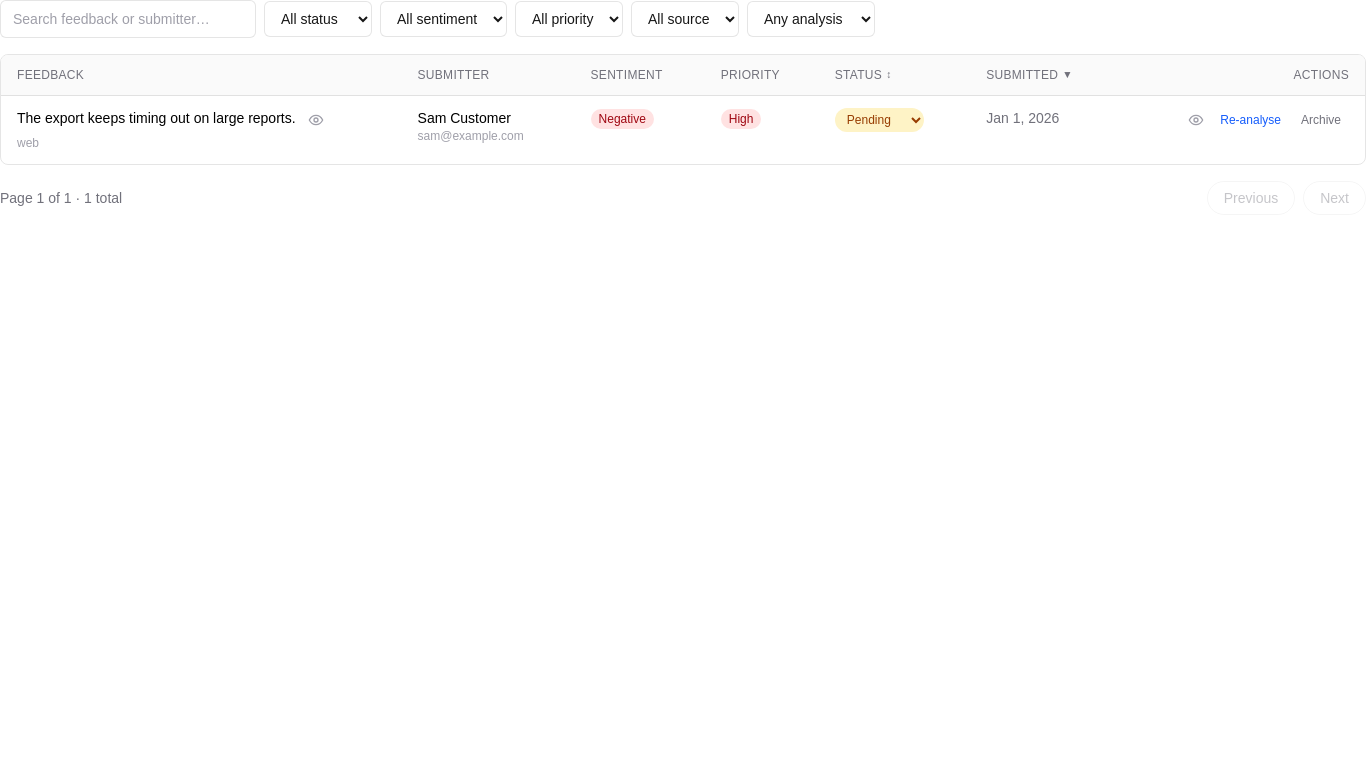
Test: FeedbackTable › opens the AI analysis modal with summary, themes, and actions
Check: the text "The export keeps timing out on large reports." is shown, box [17,108,296,128]
Click the button named "View AI analysis".
click(1196, 120)  # box [1184,108,1208,132]
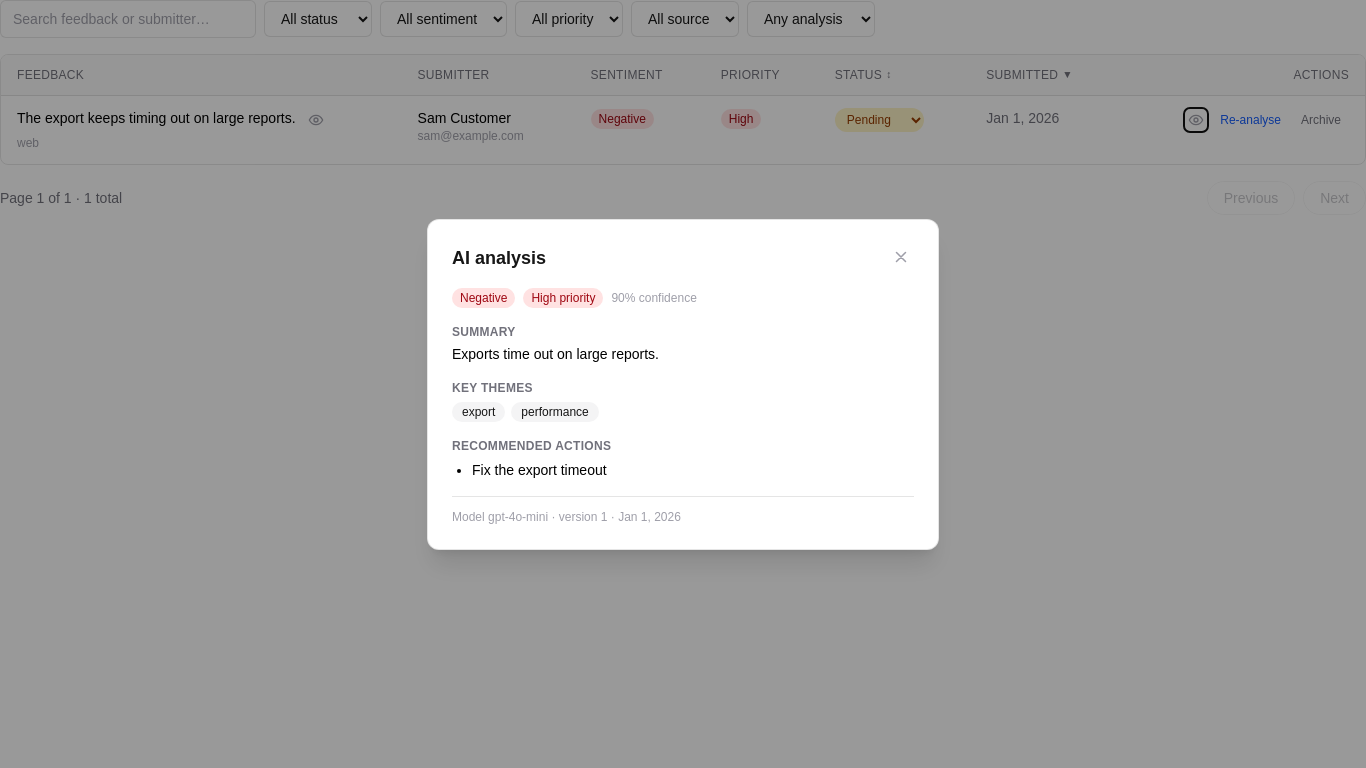
Check: the text "Exports time out on large reports." is shown, box [452,346,659,362]
Check: the list item "Fix the export timeout" is shown, box [472,462,607,478]
Check: the text "performance" is shown, box [511,402,599,422]
